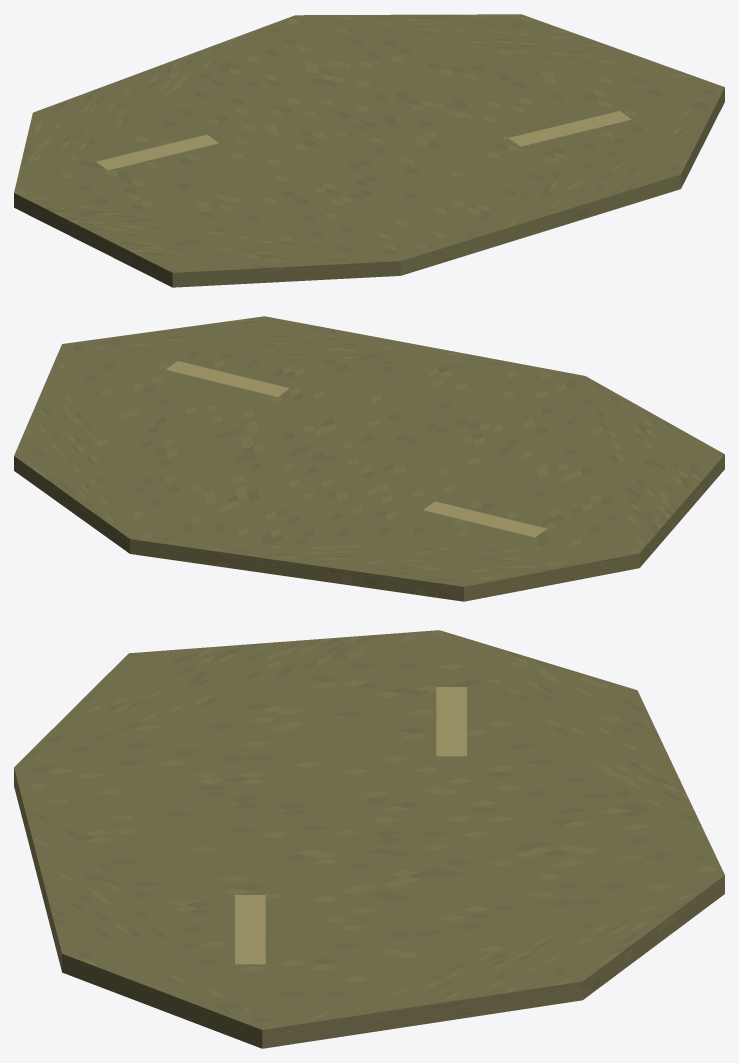
File: water_murky.glb
The picture shows the model from 3 angles, top to bottom: view 1: azimuth 30°, elevation 25°; view 2: azimuth 150°, elevation 25°; view 3: azimuth 270°, elevation 25°; orthographic projection. The views are drawn at different scales.
Parts seen in each view (by area): view 1: block_shallow spilled water, block_surface reflection (×2); view 2: block_shallow spilled water, block_surface reflection (×2); view 3: block_shallow spilled water, block_surface reflection (×2).
Boxes of the visible parts, x1,y1,x2,y2 form: block_shallow spilled water: (14, 14, 724, 287); block_surface reflection (×2): (96, 111, 631, 170); block_shallow spilled water: (14, 316, 724, 601); block_surface reflection (×2): (166, 361, 546, 537); block_shallow spilled water: (14, 630, 724, 1048); block_surface reflection (×2): (235, 687, 466, 964).
Size of the model in its own units: 0.28 by 0.00647 by 0.2104.
Materials: 1 (1 with a texture image).
